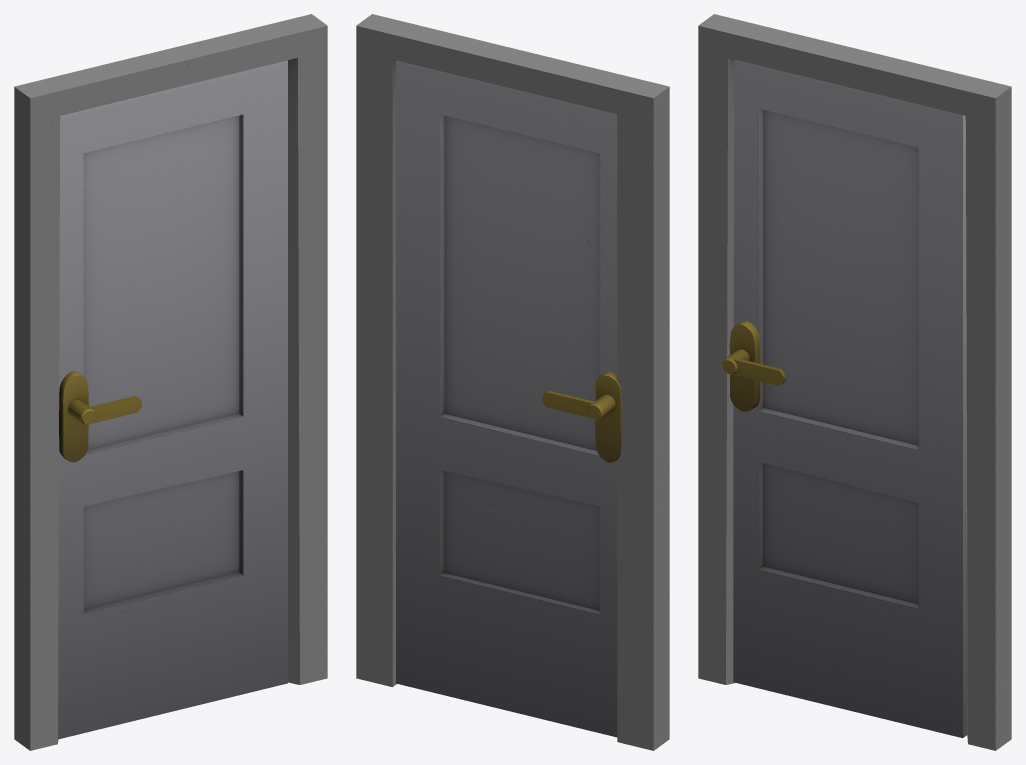
File: SmallDoor.fbx
3 renders of one model, left to right at view 1: azimuth 30°, elevation 25°; view 2: azimuth 150°, elevation 25°; view 3: azimuth 330°, elevation 25°, orthographic.
Visible parts, largest first — view 1: Door, Okrp; view 2: Door, Okrp; view 3: Door, Okrp.
Part boxes in pixels (bbox=[...]): Door: bbox=[58, 60, 287, 739]; Okrp: bbox=[14, 14, 327, 750]; Door: bbox=[396, 60, 621, 737]; Okrp: bbox=[356, 14, 669, 750]; Door: bbox=[722, 59, 967, 738]; Okrp: bbox=[698, 14, 1011, 750].
Bounding box in the file's own units: 100 × 210 × 25.9.
Materials: 2 (2 with a texture image).
